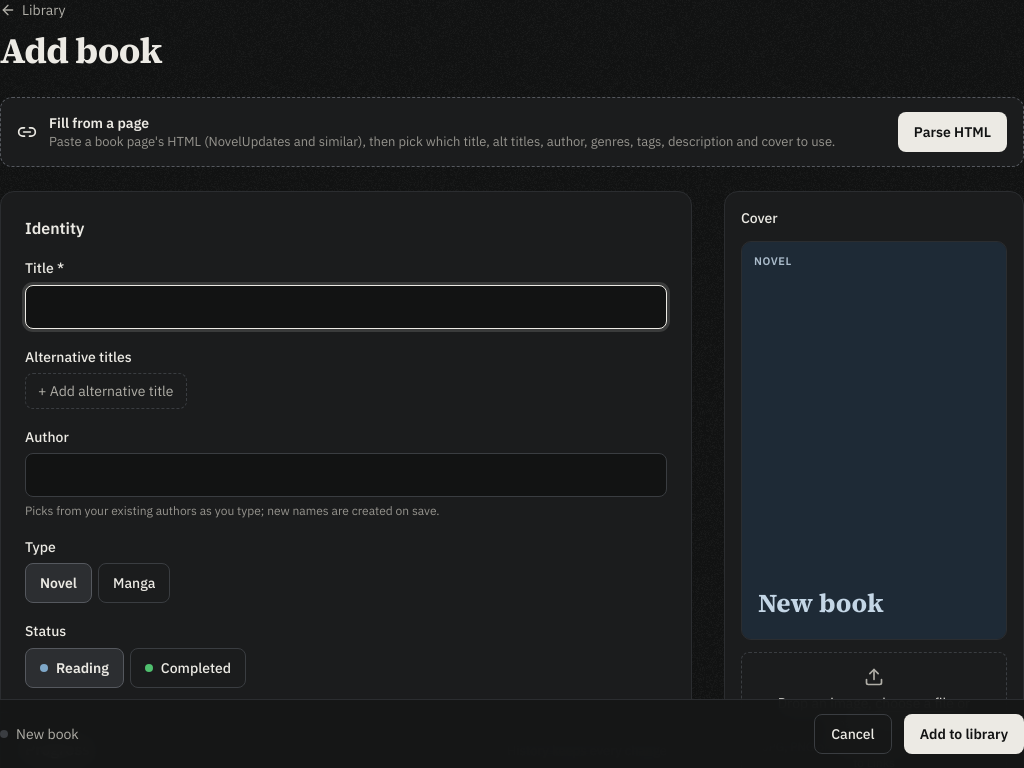
Test: BookFormPage › shows the detected ScribbleHub resolver source
Expected: the heading "Add book" is shown, 0,26 -> 162,75
Click the button "Parse HTML" at (952, 132), box 898,112 -> 1007,152
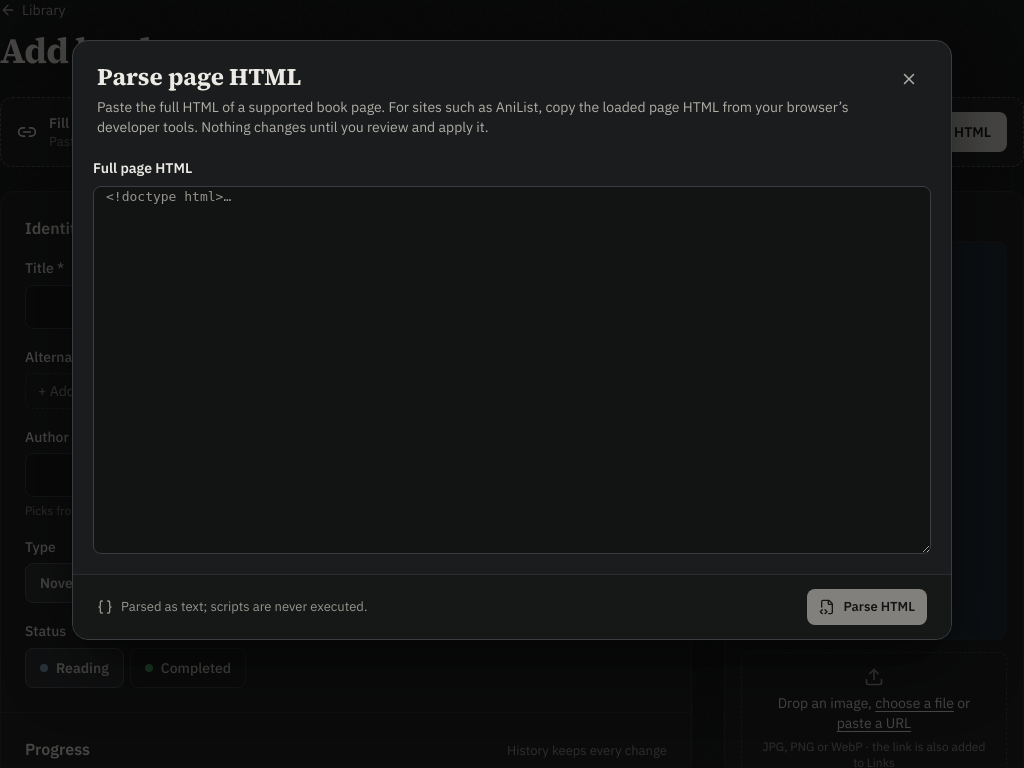
Type "<html>source</html>" into the text box labelled "Full page HTML" at (512, 370), box 93,186 -> 931,554
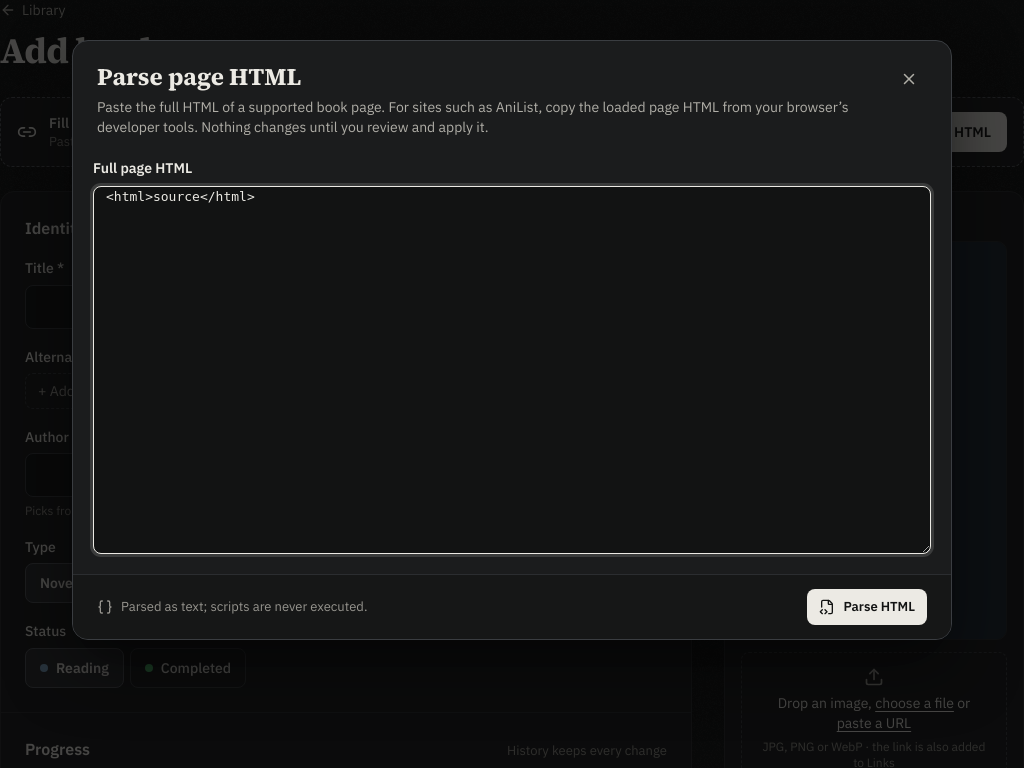
Click the button "Parse HTML" at (867, 607), box 807,589 -> 927,625
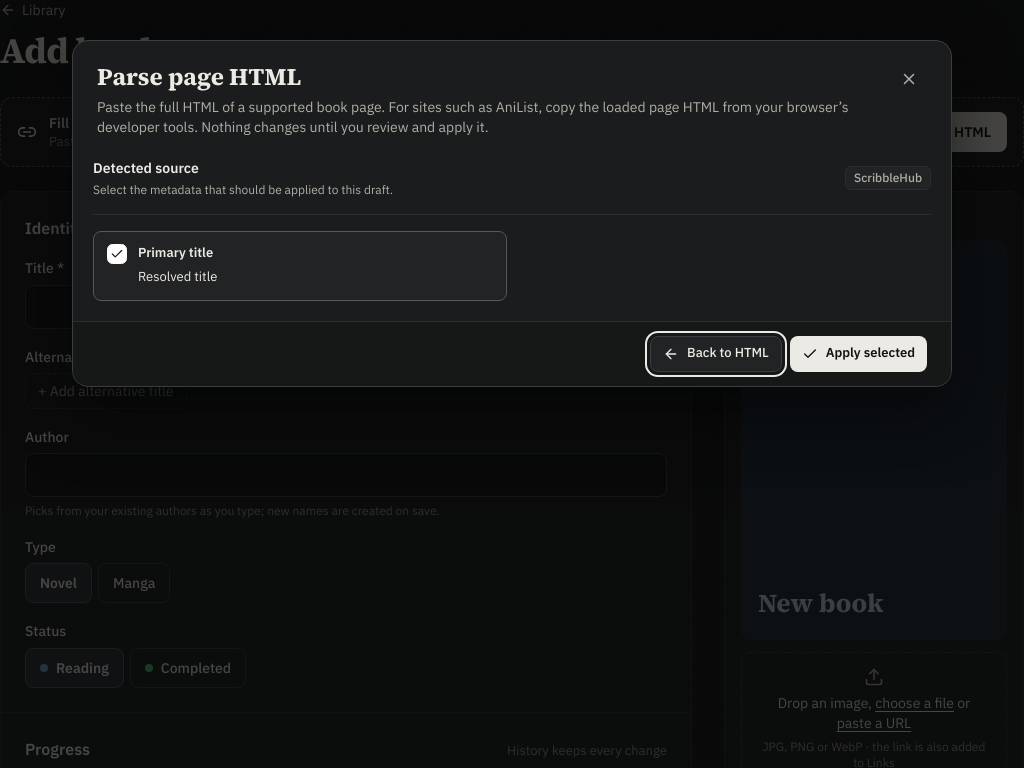
Now the text "ScribbleHub" is shown, box 845,166 -> 931,190
